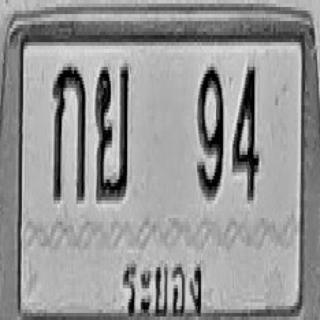A01: (52, 63, 86, 200)
A34: (95, 63, 129, 200)
N04: (232, 63, 259, 200)
N09: (197, 63, 223, 197)
P53: (119, 245, 206, 320)
